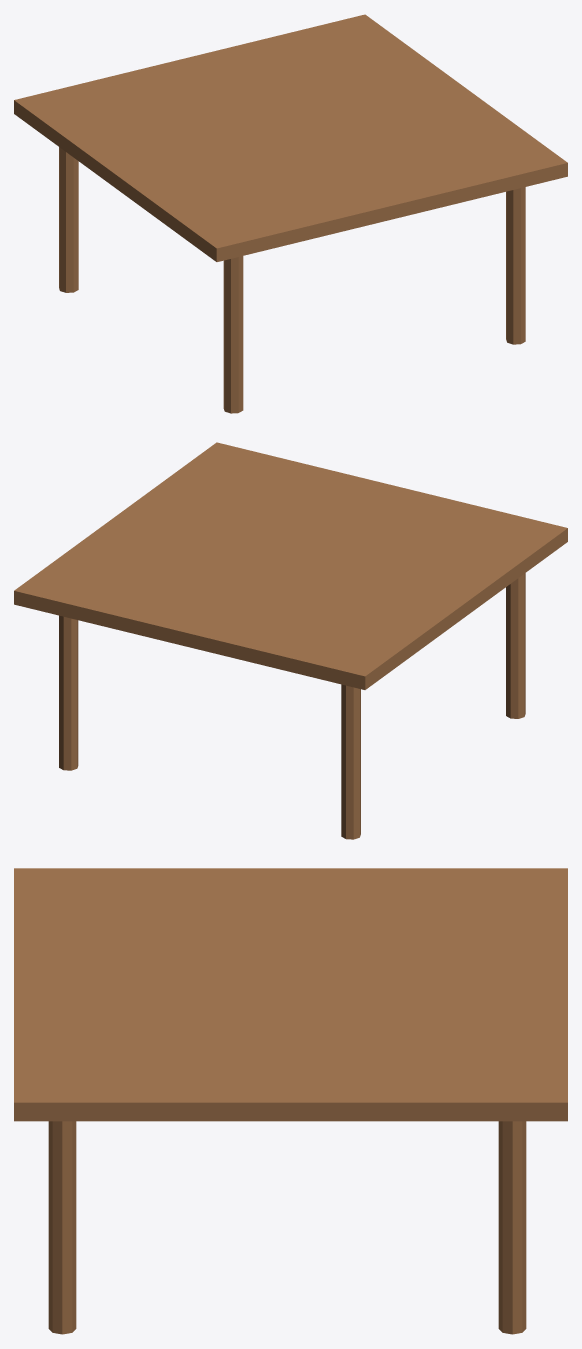
The model's file is 16 Table.FBX.
The picture shows the model from 3 angles, top to bottom: view 1: azimuth 30°, elevation 25°; view 2: azimuth 150°, elevation 25°; view 3: azimuth 270°, elevation 25°; orthographic projection. The views are drawn at different scales.
Parts seen in each view (by area): view 1: Table; view 2: Table; view 3: Table.
Part boxes in pixels (x1,y1,x2,y2): Table: (14, 14, 567, 413); Table: (14, 442, 567, 839); Table: (14, 868, 567, 1334).
Bounding box in the file's own units: 800 × 397 × 800.
